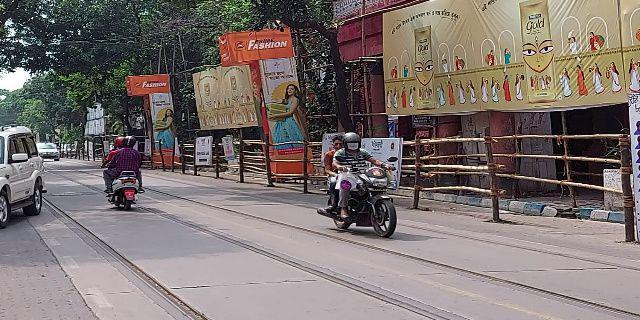Car: (1, 123, 56, 225)
Motorbike: (315, 131, 399, 240), (96, 134, 147, 211)
